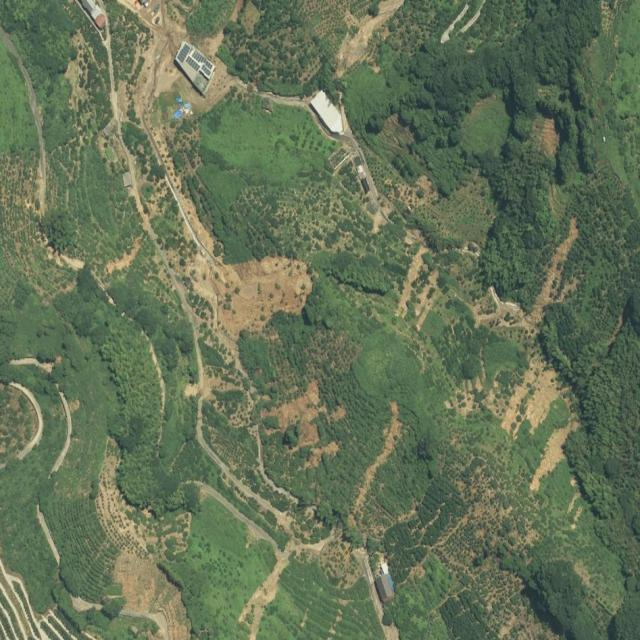landslide: (218, 256, 312, 336)
